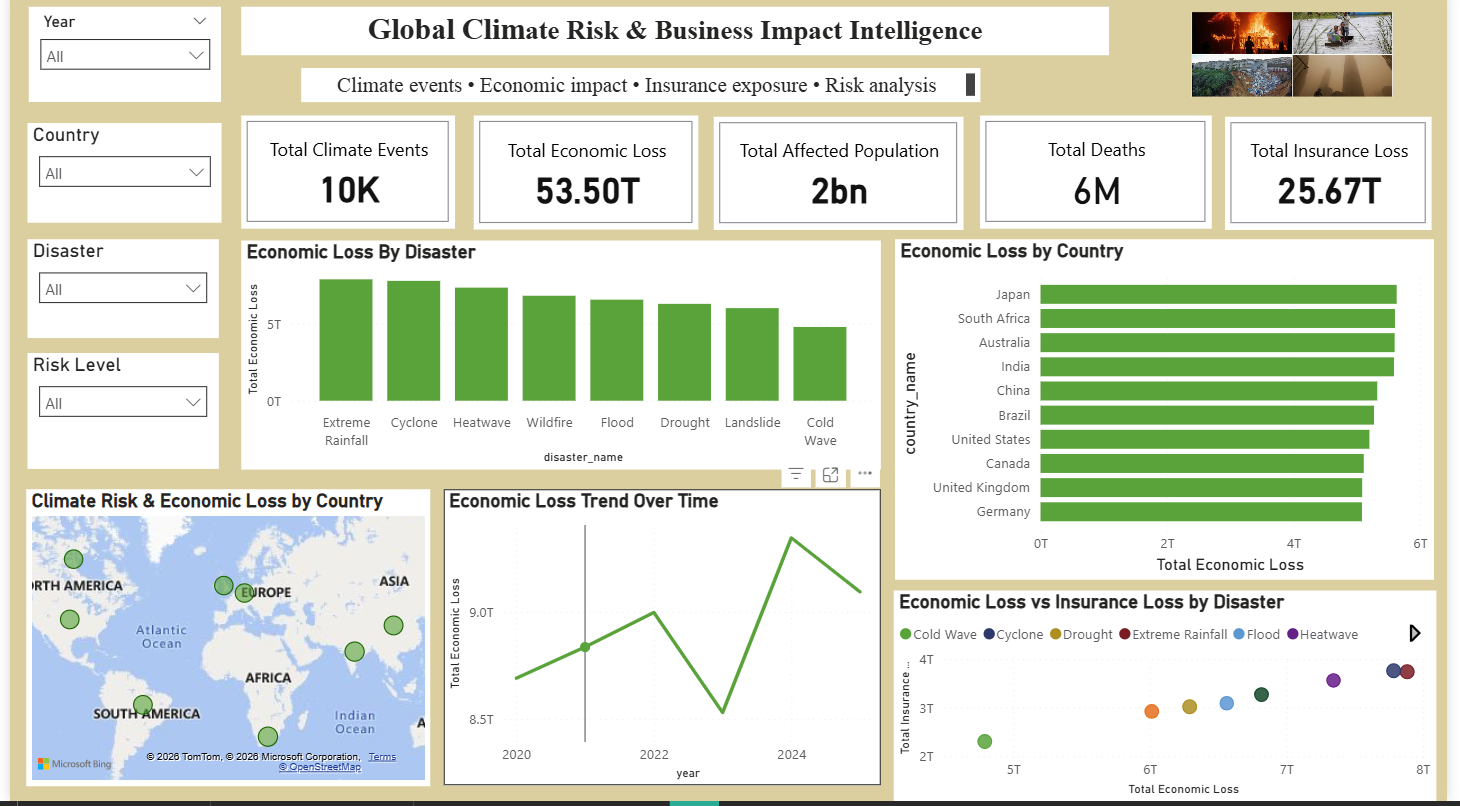

The dashboard page shown, as its layout file describes it:
{"tool":"powerbi","page":{"name":"Executive Dashboard","canvas":[1280,720],"ordinal":0},"visuals":[{"type":"cardVisual","fields":{"Data":["fact_climate_events_messy.Total Economic Loss"]},"box":[413.5,109.2,200,101.8],"z":0},{"type":"cardVisual","fields":{"Data":["fact_climate_events_messy.Total Affected Population"]},"box":[627,110.4,222.1,100.6],"z":1000},{"type":"cardVisual","fields":{"Data":["fact_climate_events_messy.Total Deaths"]},"box":[863.8,109.2,206.1,100.6],"z":2000},{"type":"cardVisual","fields":{"Data":["fact_climate_events_messy.Total Insurance Loss"]},"box":[1082.2,110.4,184.1,100.6],"z":3000},{"type":"clusteredBarChart","title":"Economic Loss by Country","fields":{"Category":["dim_country.country_name"],"Y":["fact_climate_events_messy.Total Economic Loss"]},"box":[787.7,219.6,479.8,303.1],"z":4000},{"type":"clusteredColumnChart","title":"Economic Loss By Disaster","fields":{"Category":["dim_disaster.disaster_name"],"Y":["fact_climate_events_messy.Total Economic Loss"]},"box":[206.1,220.9,569.3,203.7],"z":5000},{"type":"scatterChart","title":"Economic Loss vs Insurance Loss by Disaster","fields":{"X":["fact_climate_events_messy.Total Economic Loss"],"Y":["fact_climate_events_messy.Total Insurance Loss"],"Size":["fact_climate_events_messy.Total Climate Events"],"Series":["dim_disaster.disaster_name"]},"box":[786.5,532.5,483.4,187.7],"z":6000},{"type":"lineChart","title":"Economic Loss Trend Over Time","fields":{"Y":["fact_climate_events_messy.Total Economic Loss"],"Category":["dim_date.year"]},"box":[386.5,441.7,389,263.8],"z":7000},{"type":"slicer","fields":{"Values":["dim_date.year"]},"box":[16.5,12.3,171.5,85.1],"z":8000},{"type":"slicer","title":"Country","fields":{"Values":["dim_country.country_name"]},"box":[15.1,115.3,172.9,89.2],"z":9000},{"type":"slicer","title":"Disaster","fields":{"Values":["dim_disaster.disaster_name"]},"box":[15.1,219.6,170.2,87.8],"z":10000},{"type":"slicer","title":"Risk Level","fields":{"Values":["dim_risk_level.risk_level"]},"box":[15.1,321.1,170.2,102.9],"z":11000},{"type":"textbox","box":[206.1,12.3,773,42.9],"z":12000},{"type":"textbox","box":[258.9,66.3,604.9,30.7],"z":13000},{"type":"cardVisual","fields":{"Data":["fact_climate_events_messy.Total Climate Events"]},"box":[206.1,109.2,190.2,100.6],"z":14000},{"type":"map","title":"Climate Risk & Economic Loss by Country","fields":{"Category":["dim_country.country_name"],"Size":["fact_climate_events_messy.Total Economic Loss"]},"box":[14.7,441.7,359.5,263.8],"z":15000},{"type":"image","box":[1047.9,12.3,189,84.7],"z":16000}]}

Visuals, with their boxes in screenshot pixels (x1, y1, x2, y2), scaled from the page's 1280x720 canvas onto the 1460x806 screenshot:
cardVisual - fact_climate_events_messy.Total Economic Loss: bbox=(472, 122, 700, 236)
cardVisual - fact_climate_events_messy.Total Affected Population: bbox=(715, 124, 969, 236)
cardVisual - fact_climate_events_messy.Total Deaths: bbox=(985, 122, 1220, 235)
cardVisual - fact_climate_events_messy.Total Insurance Loss: bbox=(1234, 124, 1444, 236)
"Economic Loss by Country" clusteredBarChart: bbox=(898, 246, 1446, 585)
"Economic Loss By Disaster" clusteredColumnChart: bbox=(235, 247, 884, 475)
"Economic Loss vs Insurance Loss by Disaster" scatterChart: bbox=(897, 596, 1448, 805)
"Economic Loss Trend Over Time" lineChart: bbox=(441, 494, 885, 790)
slicer - dim_date.year: bbox=(19, 14, 214, 109)
"Country" slicer: bbox=(17, 129, 214, 229)
"Disaster" slicer: bbox=(17, 246, 211, 344)
"Risk Level" slicer: bbox=(17, 359, 211, 475)
textbox: bbox=(235, 14, 1117, 62)
textbox: bbox=(295, 74, 985, 109)
cardVisual - fact_climate_events_messy.Total Climate Events: bbox=(235, 122, 452, 235)
"Climate Risk & Economic Loss by Country" map: bbox=(17, 494, 427, 790)
image: bbox=(1195, 14, 1411, 109)
